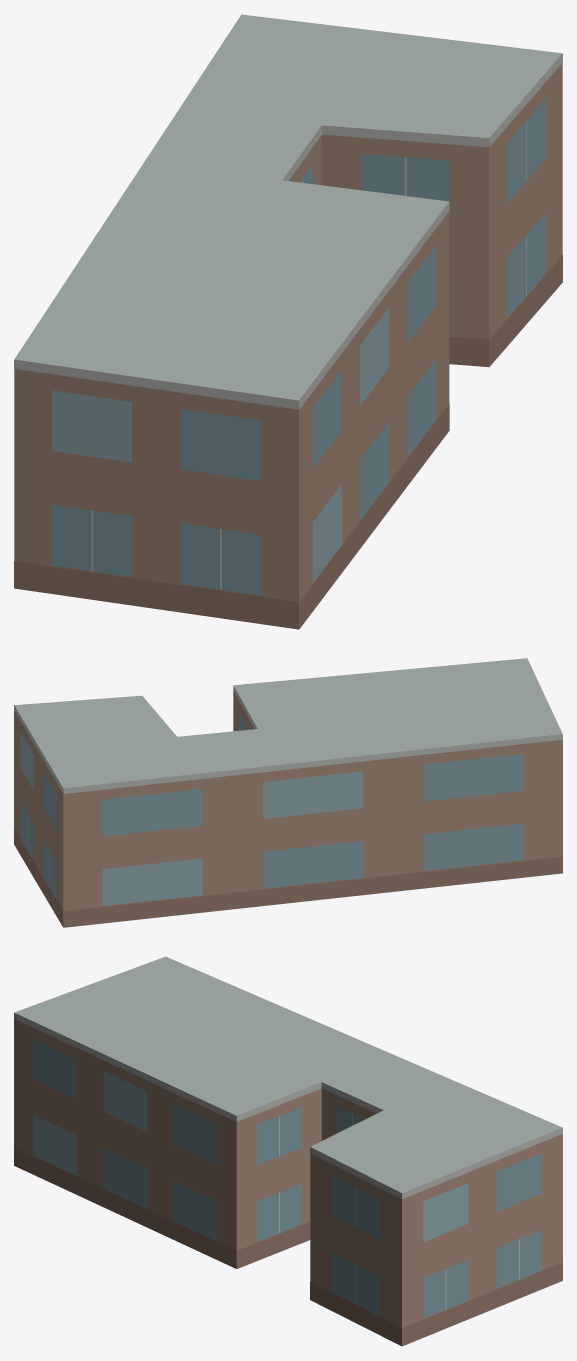
File: survey-upis-32978497.glb
3 renders of one model, top to bottom at view 1: azimuth 30°, elevation 25°; view 2: azimuth 150°, elevation 25°; view 3: azimuth 270°, elevation 25°, orthographic. The views are drawn at different scales.
Parts seen in each view (by area): view 1: survey-upis-32978497.tmp; view 2: survey-upis-32978497.tmp; view 3: survey-upis-32978497.tmp.
Part boxes in pixels (left/top/right/bottom): survey-upis-32978497.tmp: left=14, top=14, right=562, bottom=629; survey-upis-32978497.tmp: left=14, top=658, right=562, bottom=927; survey-upis-32978497.tmp: left=14, top=956, right=562, bottom=1346.
Bounding box in the file's own units: 20.23 × 6.1 × 19.82.
